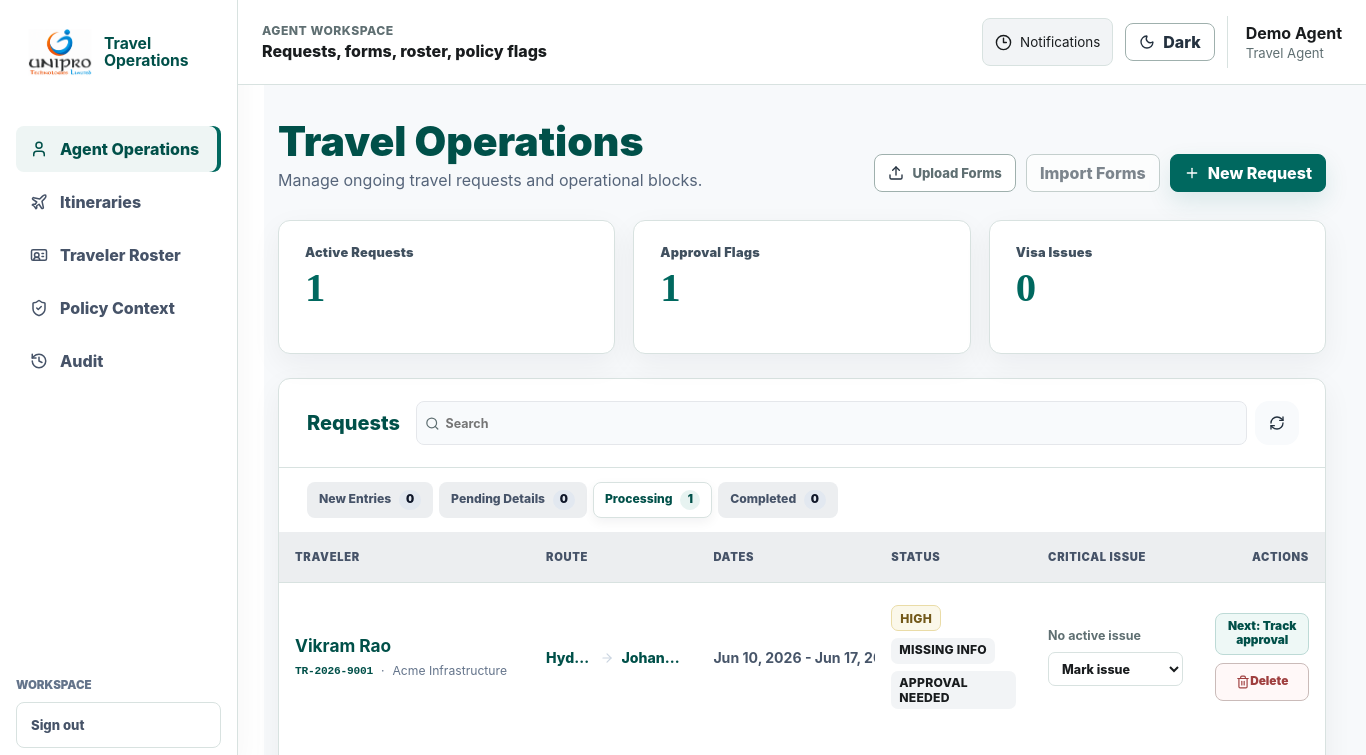
Test case: AI Corporate Travel Planning Assistant MVP › sends approval from the action panel when approval is required
Click the button with aria-label "TR-2026-9001".
click(1262, 634)  # box x1=1216 y1=614 x2=1309 y2=655
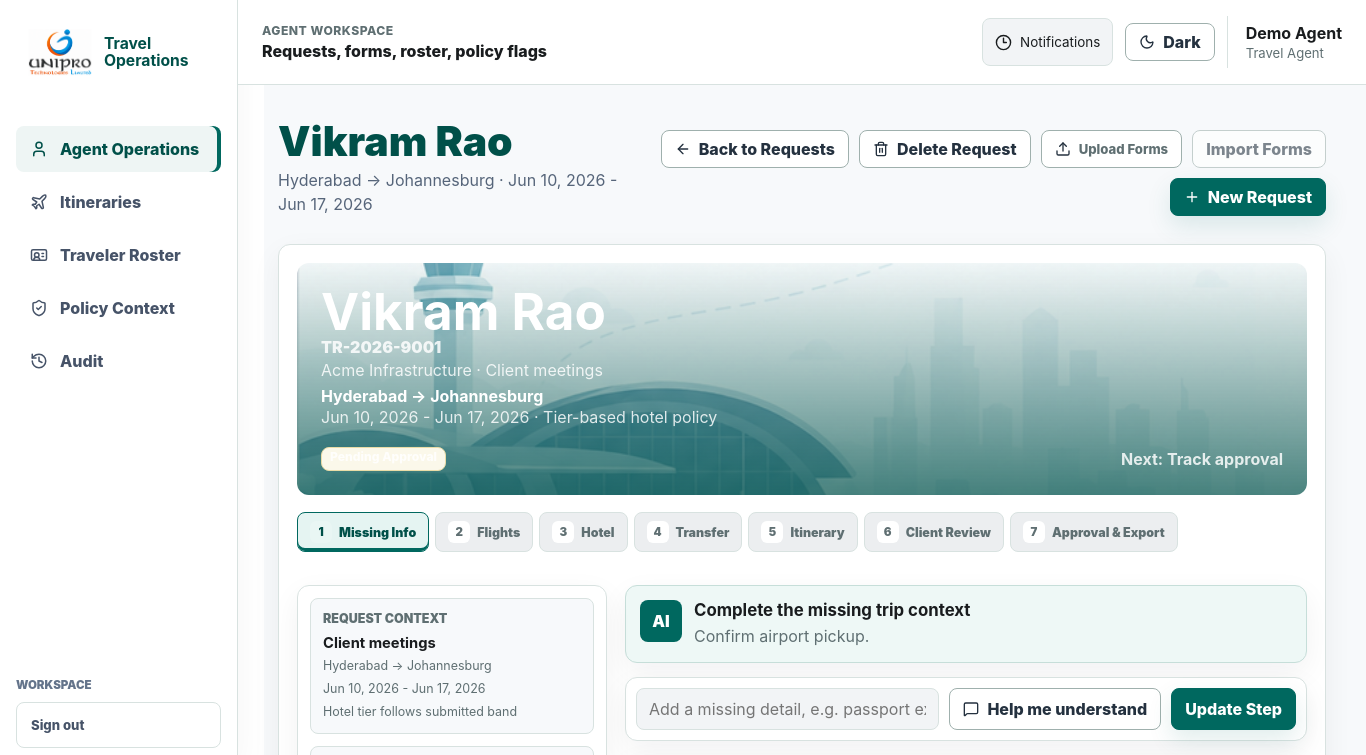
Click the button "7 Approval & Export".
click(1094, 532)  # box x1=1010 y1=512 x2=1178 y2=552
(page scrolled)
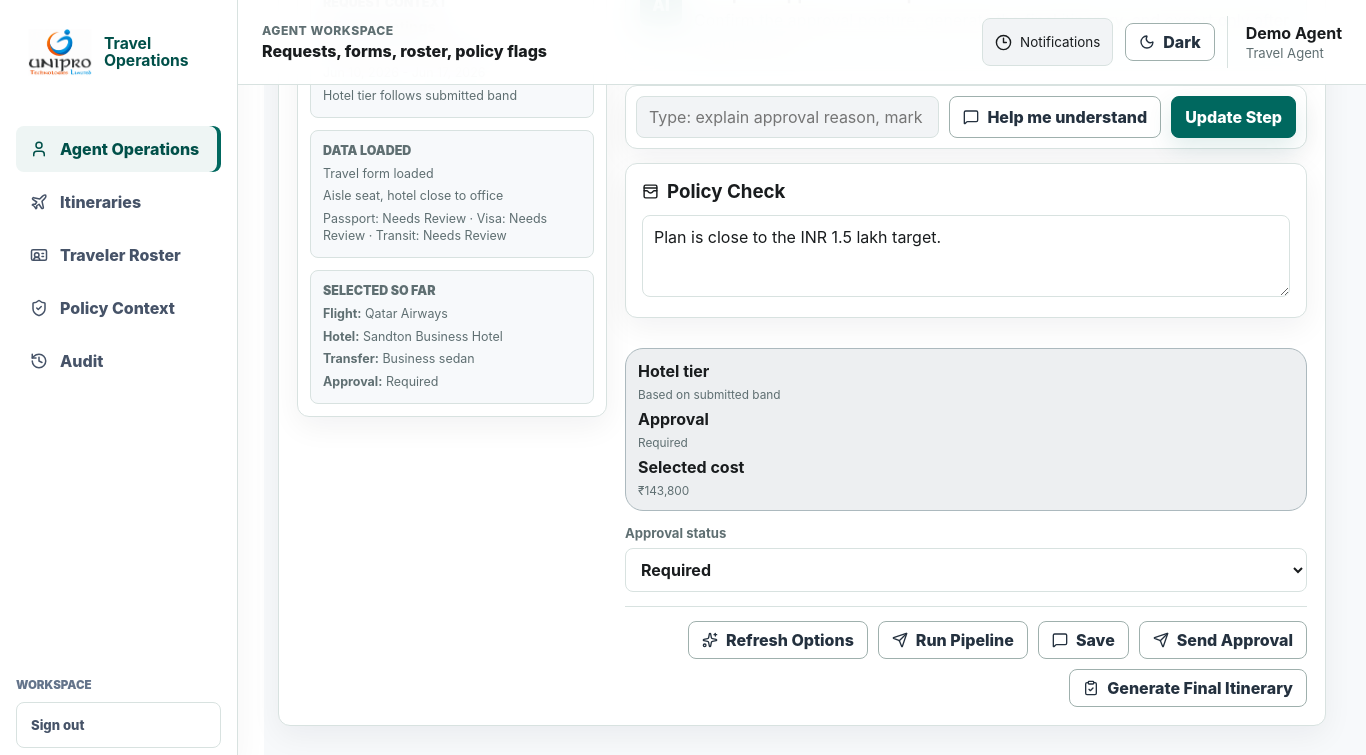
Click the button "Send Approval".
click(1223, 640)  # box x1=1139 y1=621 x2=1307 y2=659
(page scrolled)
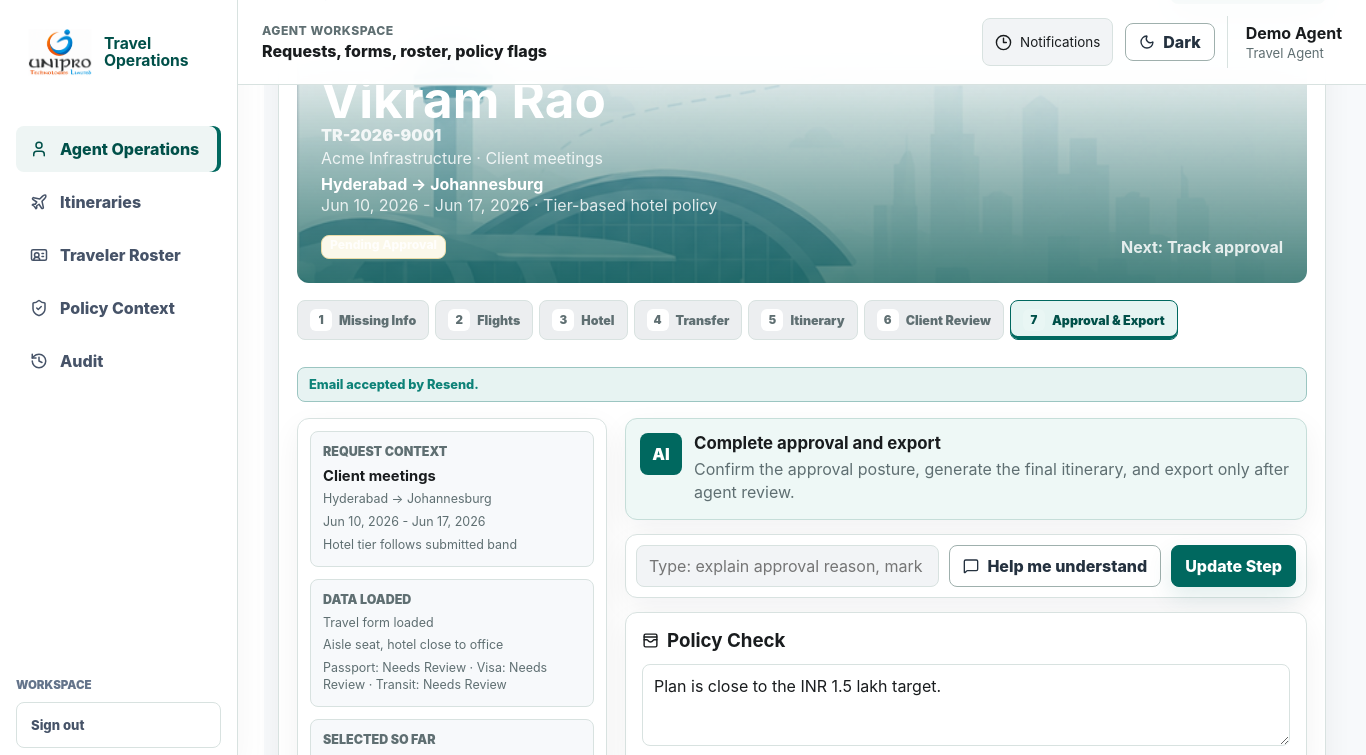
Expected: the message reads "Email accepted by Resend.", x1=309 y1=377 x2=479 y2=392
